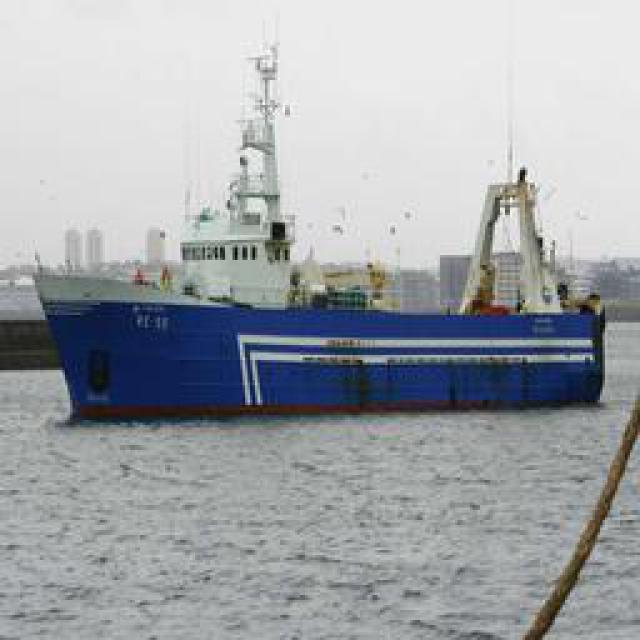Ship: (29, 27, 614, 415)
